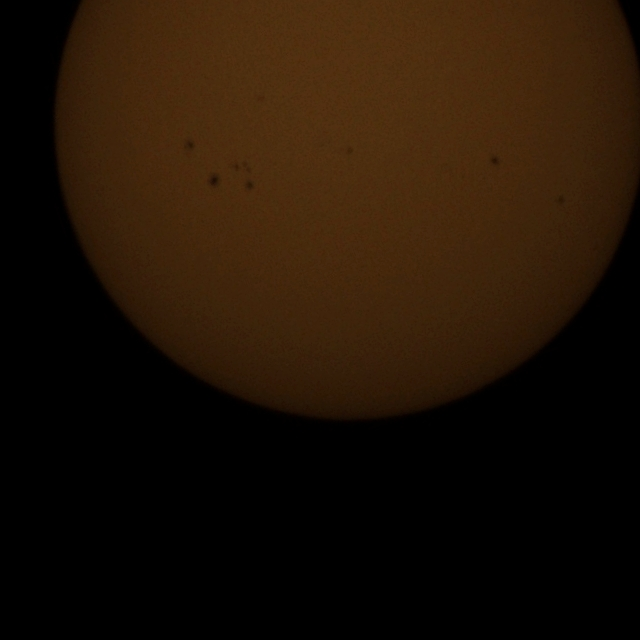sunspot: (228, 153, 253, 174), (482, 149, 509, 168), (238, 177, 262, 194), (342, 138, 362, 158), (548, 193, 574, 206), (208, 173, 220, 189), (183, 139, 196, 153)
